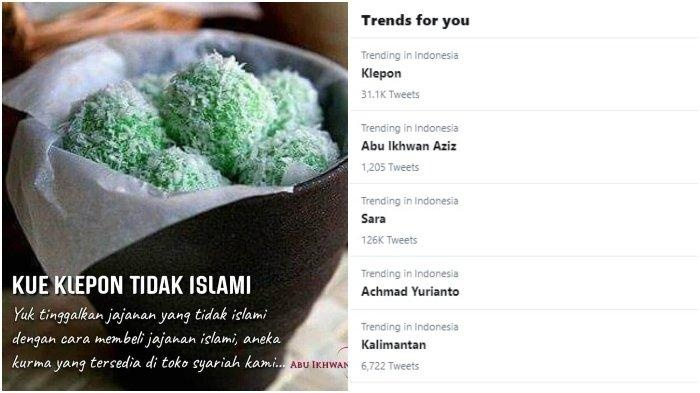klepon: (163, 45, 277, 176)
